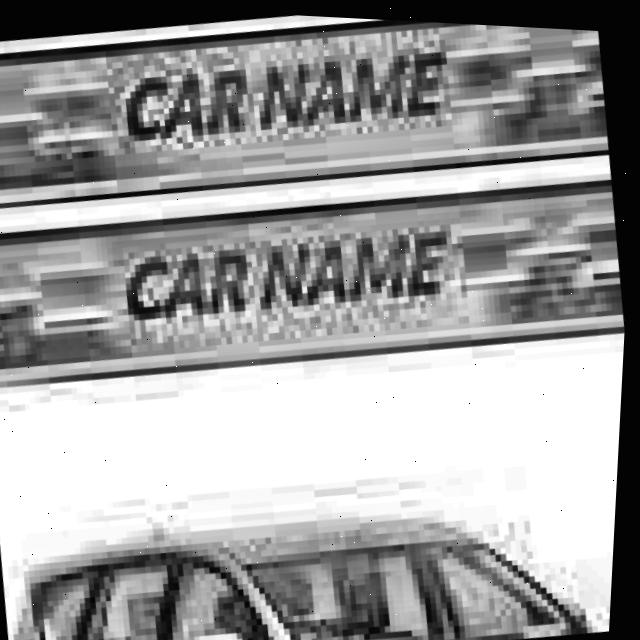light_vehicle: (2, 453, 622, 640)
